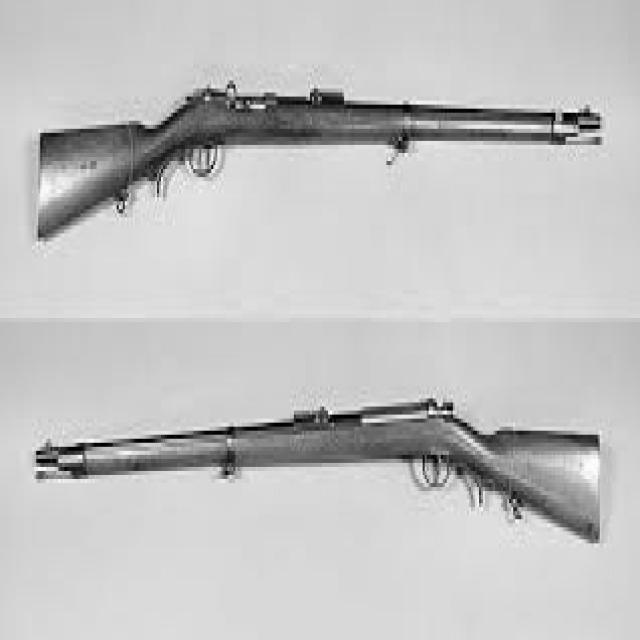gun: (34, 80, 604, 242), (32, 394, 602, 544)
